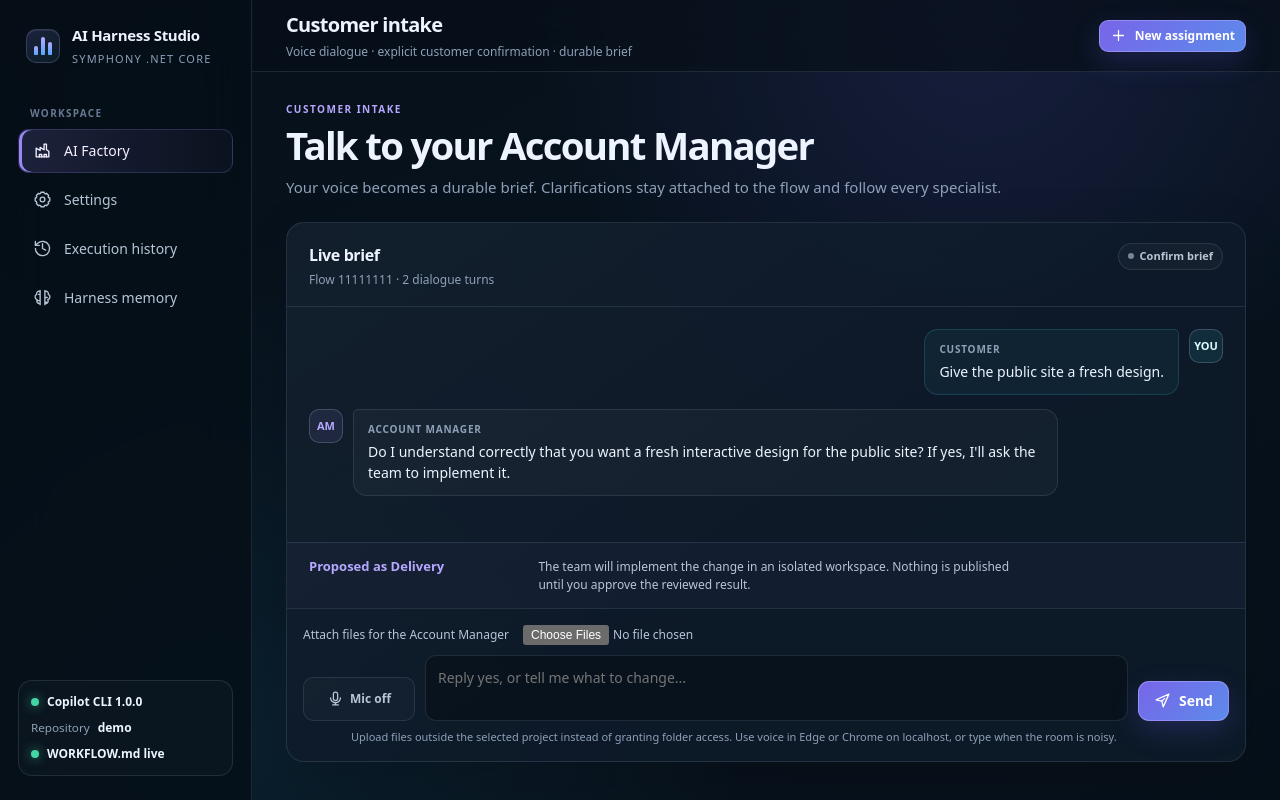
Test: IntakePage › does not duplicate a pending customer message after polling observes it
The width and height of the screenshot is (1280, 800).
Type "correct" into the text box named "Customer request" at (776, 688), box [425,655,1128,721]
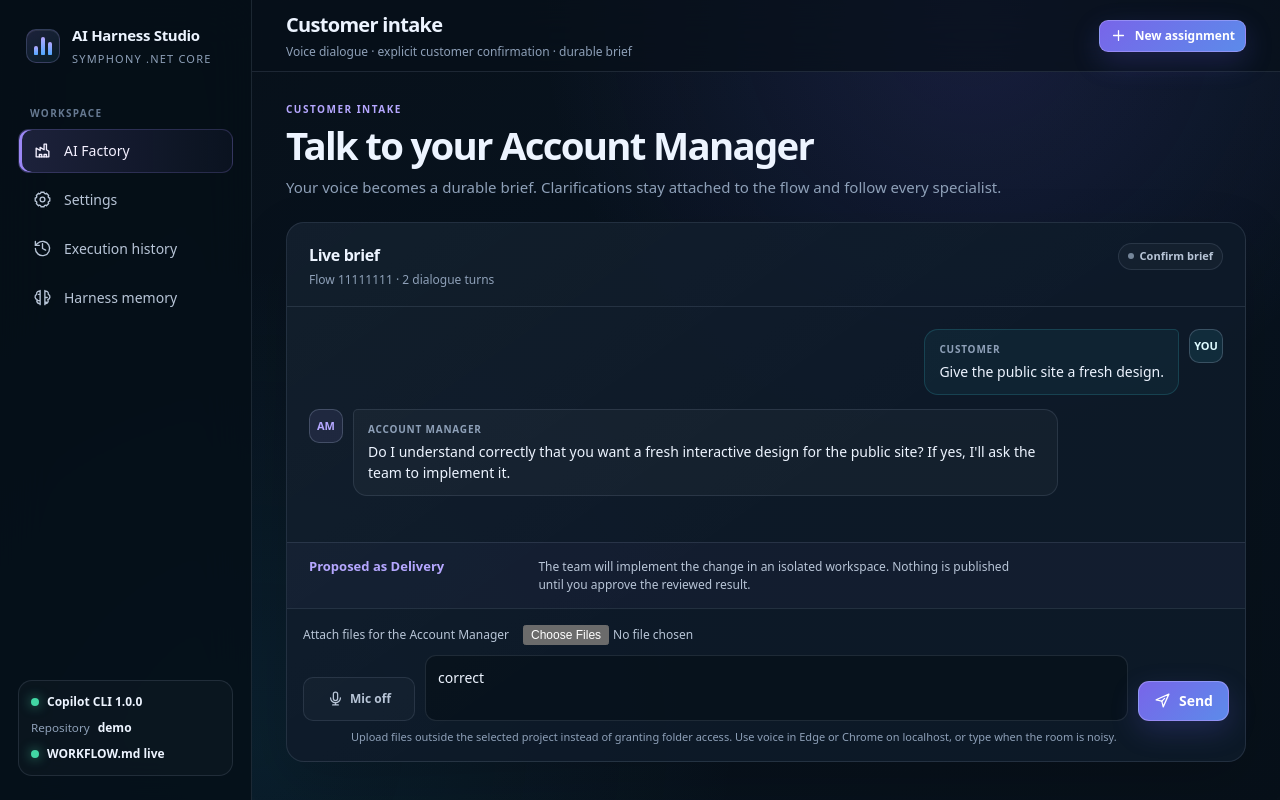
Click the button "Send" at (1183, 701), box [1138,681,1229,721]
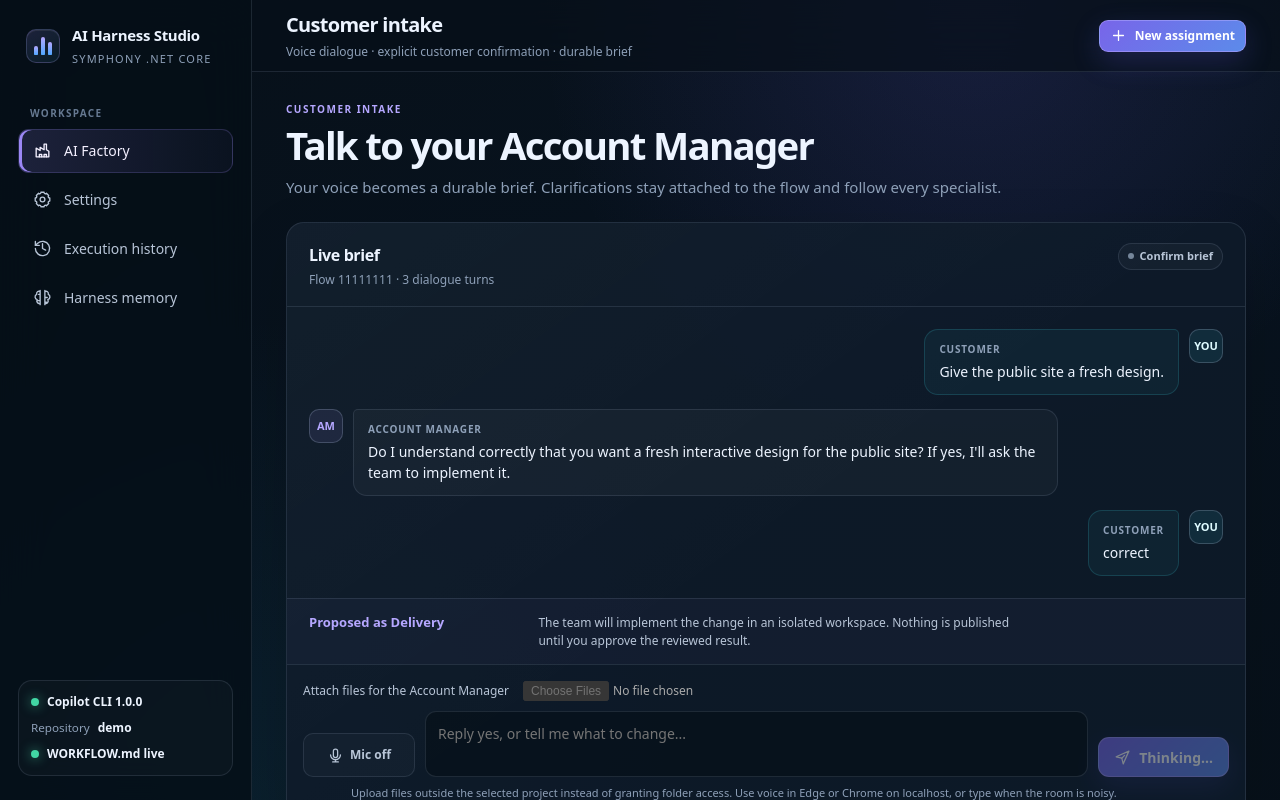
Now the text "correct" is shown once, box [1088,510,1179,576]
